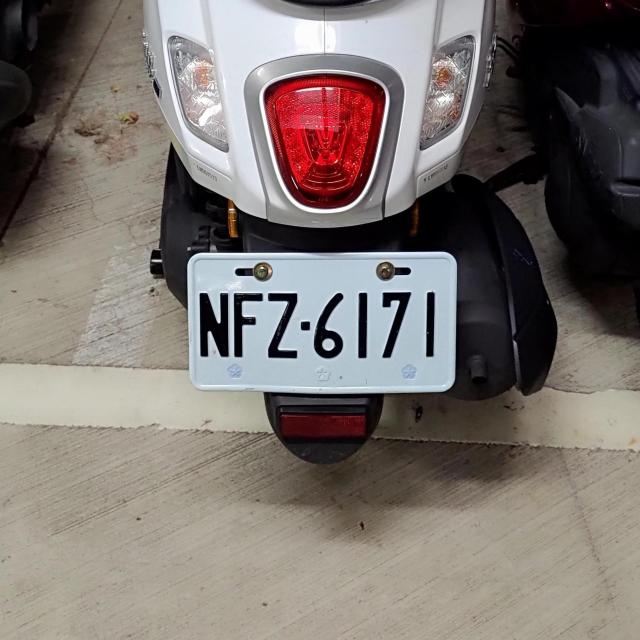W: (184, 243, 459, 395)
